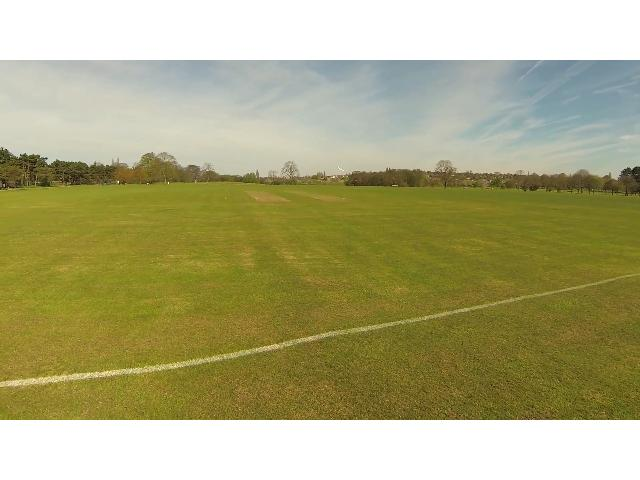Anti-Drone: (334, 164, 348, 174)
